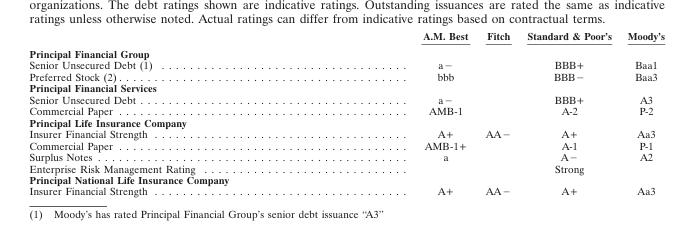table: (28, 28, 664, 197)
table column: (28, 28, 308, 197), (308, 28, 476, 197), (518, 28, 618, 197), (618, 28, 664, 197), (476, 28, 518, 197)
table column header: (28, 28, 664, 44)
table projected row header: (28, 44, 664, 58), (28, 81, 664, 93), (28, 116, 664, 127), (28, 173, 664, 184)
table row: (28, 28, 664, 44), (28, 44, 664, 58), (28, 184, 664, 197), (28, 58, 664, 70), (28, 81, 664, 93), (28, 104, 664, 116), (28, 127, 664, 139), (28, 150, 664, 162), (28, 70, 664, 81), (28, 93, 664, 104), (28, 116, 664, 127), (28, 139, 664, 150), (28, 162, 664, 173), (28, 173, 664, 184)
